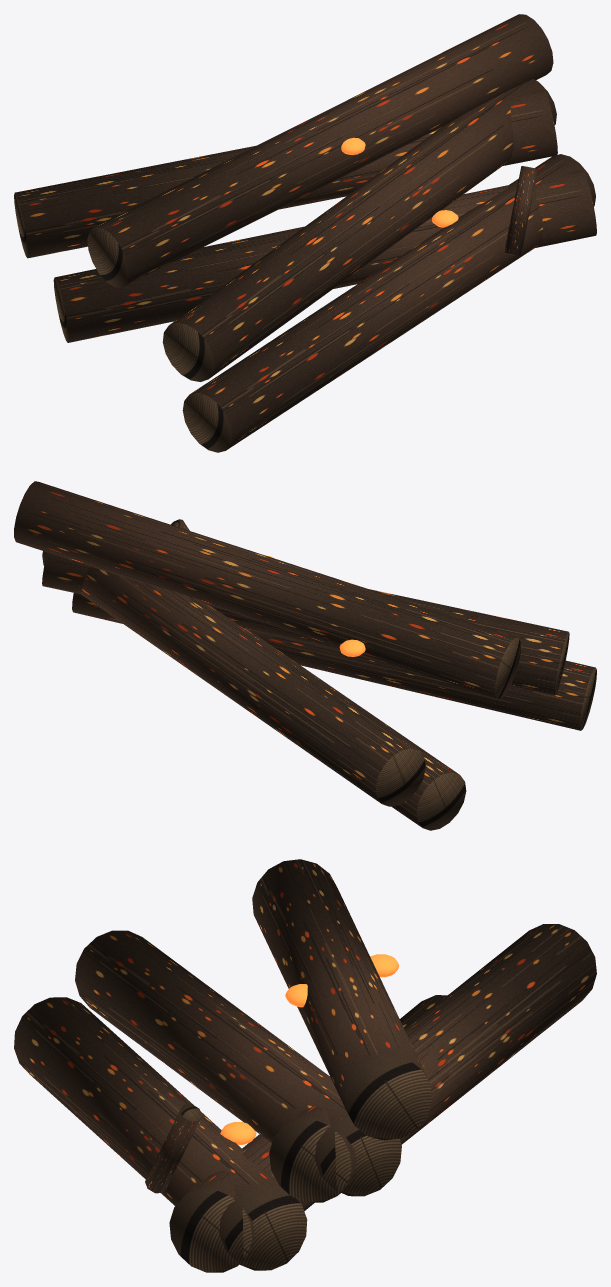
Rendered from bo-cui.glb.
3 views of the same model, one above another, from view 1: azimuth 30°, elevation 25°; view 2: azimuth 150°, elevation 25°; view 3: azimuth 270°, elevation 25° (orthographic). The views are drawn at different scales.
Parts seen in each view (by area): view 1: log0; view 2: log0; view 3: log0.
Part boxes in pixels (x1,y1,x2,y2): log0: [14, 14, 596, 452]; log0: [14, 481, 596, 830]; log0: [14, 859, 596, 1272].
Bounding box in the file's own units: 0.5522 × 0.2631 × 0.4493.
3 materials, 2 textured.
